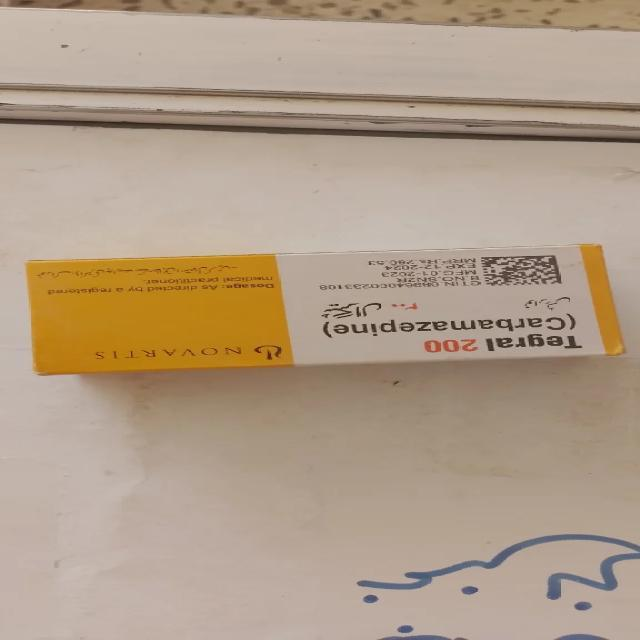drug-name: (422, 334, 585, 354)
